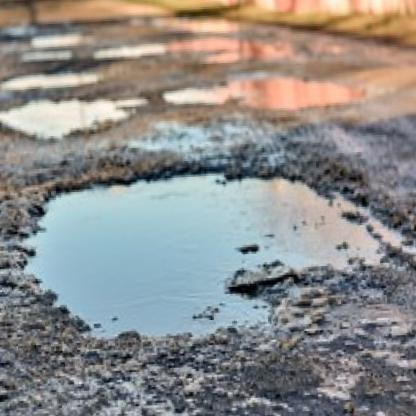pothole: (14, 154, 415, 350), (160, 59, 355, 124), (0, 90, 150, 144), (0, 65, 104, 96), (19, 46, 74, 65)
